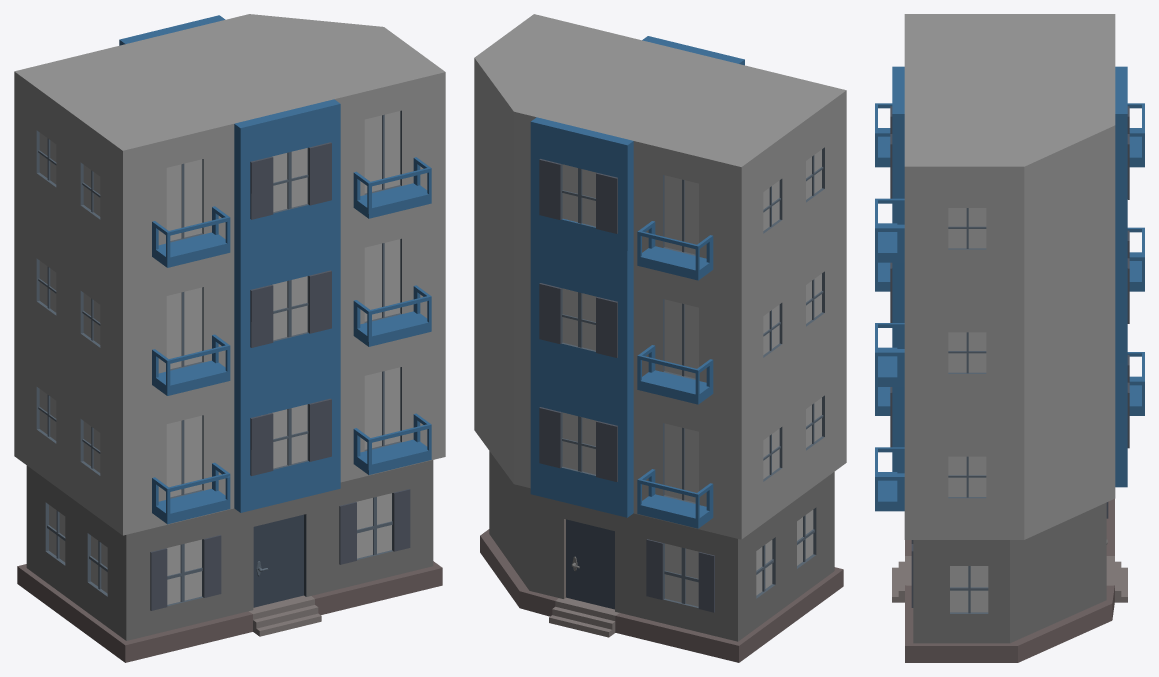
The picture shows the model from 3 angles, left to right: view 1: azimuth 30°, elevation 25°; view 2: azimuth 150°, elevation 25°; view 3: azimuth 270°, elevation 25°; orthographic projection. The views are drawn at different scales.
Parts seen in each view (by area): view 1: immeuble.004; view 2: immeuble.004; view 3: immeuble.004.
Boxes of the visible parts, box(x1,y1,x2,y2) form: immeuble.004: box(14, 14, 445, 662); immeuble.004: box(474, 14, 846, 662); immeuble.004: box(875, 14, 1144, 662).
Size of the model in its own units: 4482 by 6804 by 3346.
